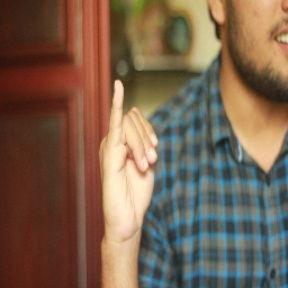I: (93, 75, 161, 215)
